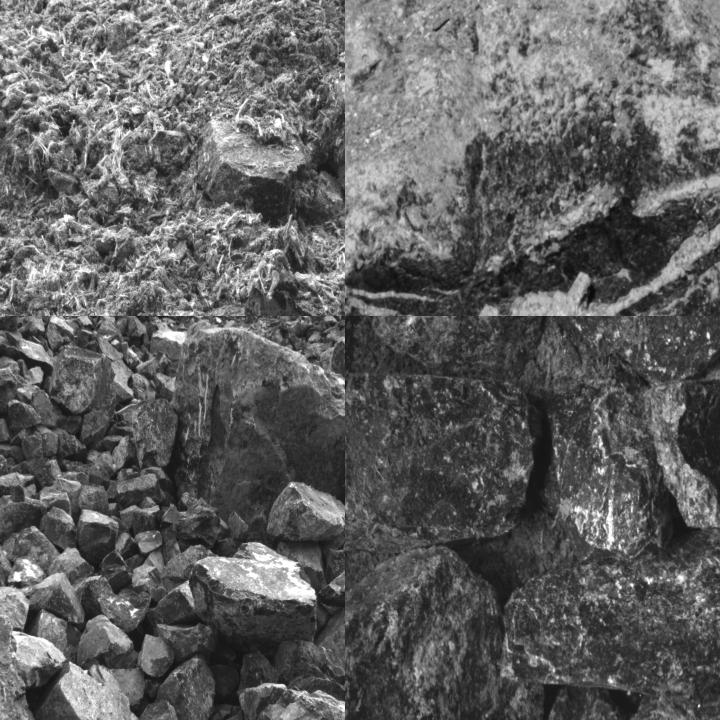stone: (345, 373, 533, 625), (500, 528, 719, 694), (345, 543, 548, 719), (174, 321, 344, 523), (540, 382, 672, 557), (642, 337, 719, 578), (539, 316, 719, 387), (192, 542, 318, 632), (198, 120, 306, 219), (365, 316, 542, 371), (40, 662, 139, 719), (50, 346, 116, 422), (266, 482, 344, 543), (159, 655, 217, 719), (22, 573, 86, 629), (76, 616, 140, 670), (131, 398, 180, 468), (6, 631, 66, 687), (276, 638, 344, 686), (164, 497, 221, 552), (97, 590, 152, 641), (156, 622, 220, 665), (0, 330, 55, 376), (77, 509, 119, 567), (148, 579, 197, 626), (0, 497, 48, 543), (7, 528, 58, 570), (114, 473, 175, 505), (41, 505, 78, 554), (138, 633, 175, 677), (130, 699, 204, 719), (132, 565, 168, 603), (22, 425, 58, 462), (318, 567, 344, 617), (99, 551, 130, 592), (28, 456, 62, 491), (6, 401, 41, 434), (323, 530, 344, 583), (80, 482, 109, 515), (112, 437, 138, 470), (0, 473, 36, 496), (0, 368, 17, 416), (134, 529, 162, 556)
